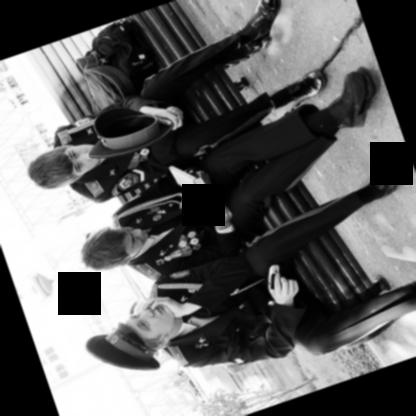backpack: (83, 16, 161, 94), (77, 52, 133, 111)
